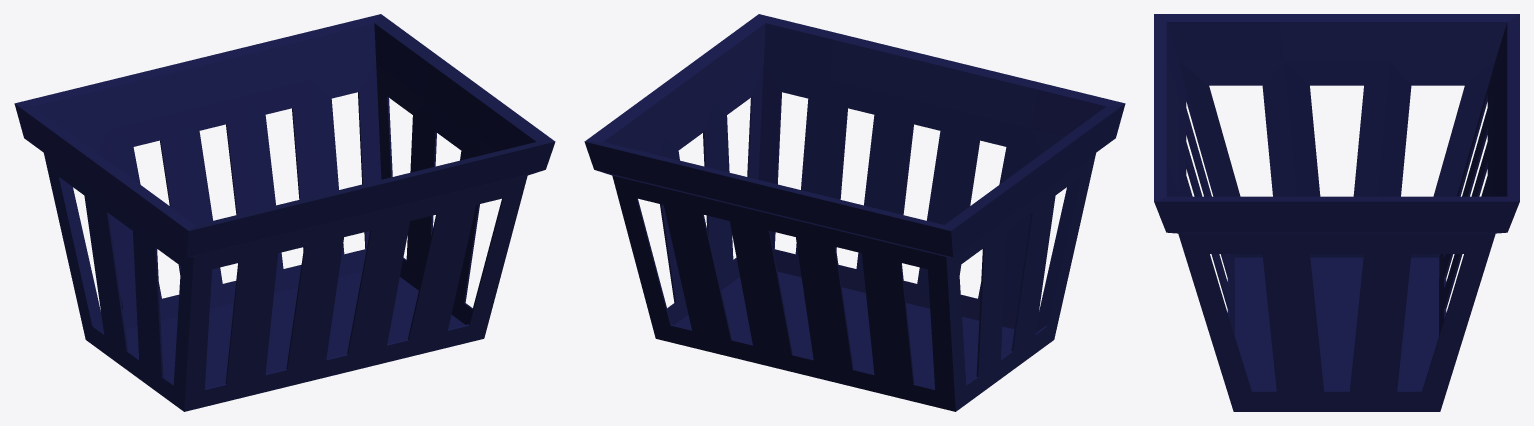
File: basket.fbx
3 views of the same model, side by side, from view 1: azimuth 30°, elevation 25°; view 2: azimuth 150°, elevation 25°; view 3: azimuth 270°, elevation 25° (orthographic). The views are drawn at different scales.
Visible parts, largest first — view 1: basket; view 2: basket; view 3: basket.
Boxes of the visible parts, x1,y1,x2,y2 form: basket: (14, 14, 555, 411); basket: (584, 14, 1125, 411); basket: (1154, 14, 1519, 411).
Bounding box in the file's own units: 218 × 123 × 180.
